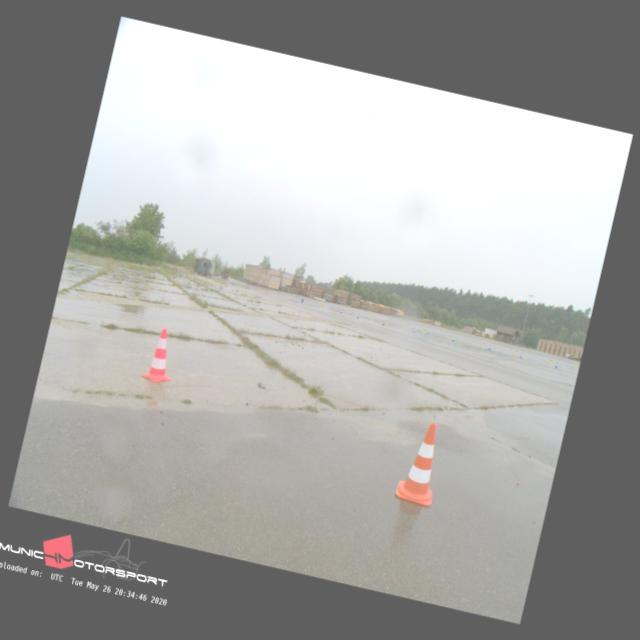blue_cone: (380, 320, 386, 326), (487, 344, 492, 350), (519, 352, 523, 358), (554, 361, 558, 367), (412, 327, 416, 332), (451, 336, 455, 341), (301, 296, 304, 300), (356, 314, 359, 318), (340, 309, 342, 313)
large_orange_cone: (393, 418, 448, 508), (140, 325, 182, 384)
yellow_cone: (384, 318, 388, 323), (482, 341, 486, 346), (514, 349, 518, 354), (549, 358, 553, 363), (422, 328, 426, 332), (321, 300, 324, 304), (370, 315, 373, 319), (450, 334, 453, 338)
